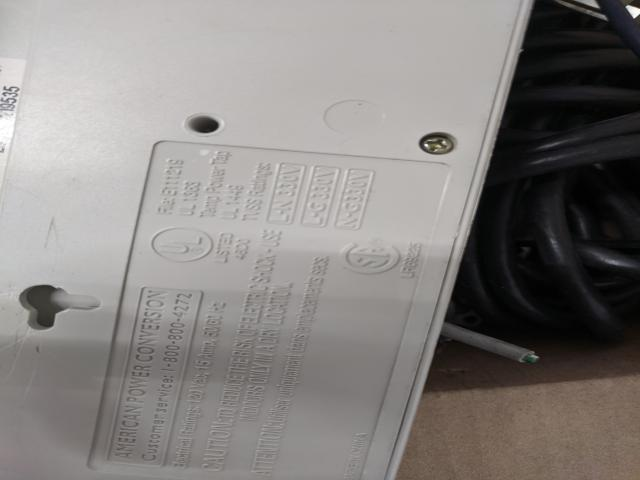CRS: (421, 134, 454, 154)
